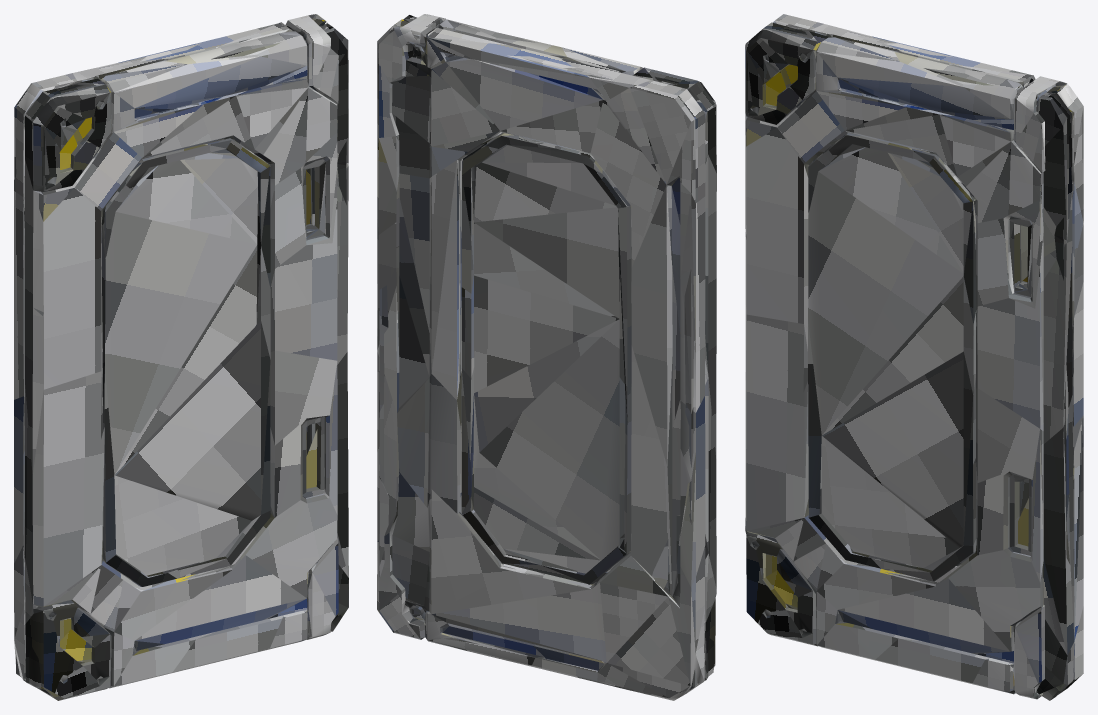
Rendered from door_panel.glb.
The picture shows the model from 3 angles, left to right: view 1: azimuth 30°, elevation 25°; view 2: azimuth 150°, elevation 25°; view 3: azimuth 330°, elevation 25°; orthographic projection.
Visible parts, largest first — view 1: Mesh_0; view 2: Mesh_0; view 3: Mesh_0.
Boxes of the visible parts, bbox=[...] form: Mesh_0: bbox=[14, 14, 348, 700]; Mesh_0: bbox=[377, 14, 716, 700]; Mesh_0: bbox=[745, 14, 1083, 700].
Size of the model in its own units: 1.05 by 1.9 by 0.1502.
1 material, 1 textured.
